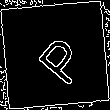P_NW: (24, 24, 86, 86)
